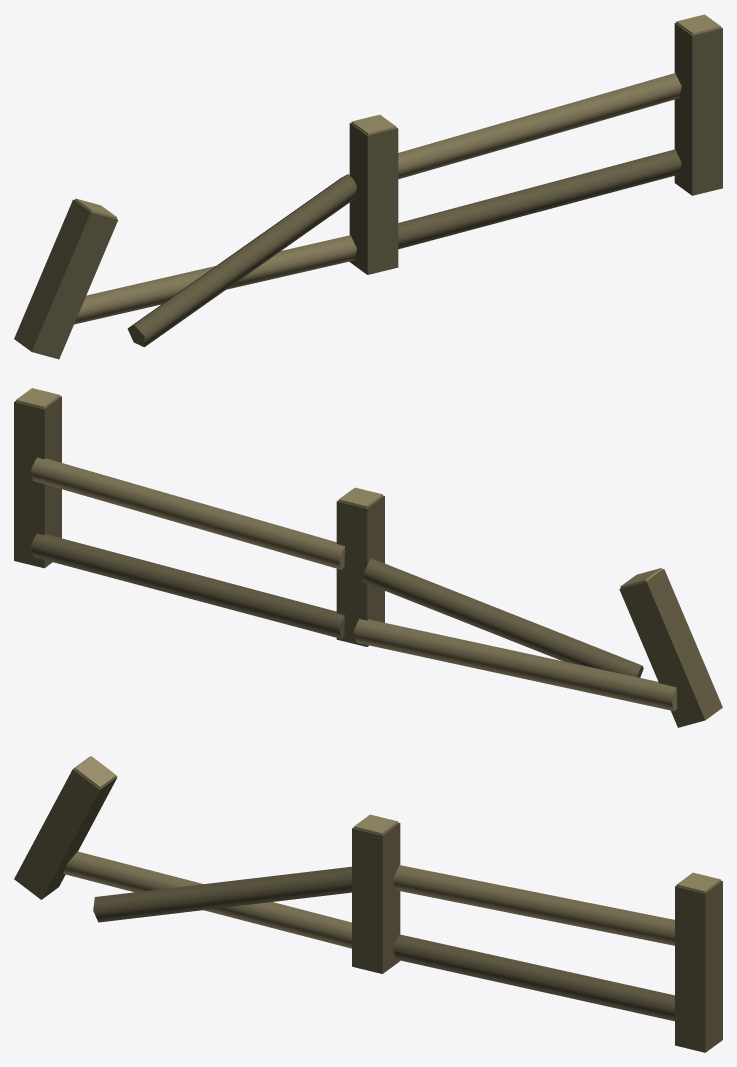
File: VerFence08.glb
3 renders of one model, top to bottom at view 1: azimuth 30°, elevation 25°; view 2: azimuth 150°, elevation 25°; view 3: azimuth 330°, elevation 25°, orthographic.
Visible parts, largest first — view 1: VerFence08_wood2; view 2: VerFence08_wood2; view 3: VerFence08_wood2.
Part boxes in pixels (bbox=[...]): VerFence08_wood2: bbox=[14, 14, 722, 359]; VerFence08_wood2: bbox=[14, 388, 722, 727]; VerFence08_wood2: bbox=[14, 756, 722, 1052].
Bounding box in the file's own units: 5.87 × 1.37 × 0.6211.
